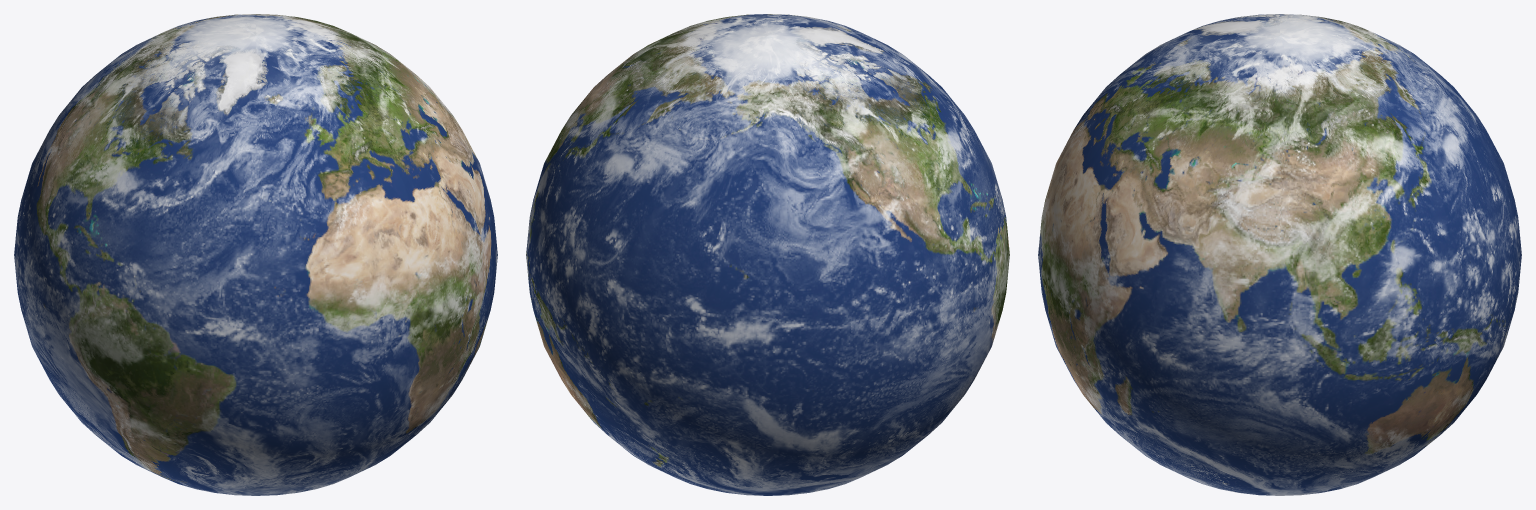
The model's file is earth.fbx.
The picture shows the model from 3 angles, left to right: view 1: azimuth 30°, elevation 25°; view 2: azimuth 150°, elevation 25°; view 3: azimuth 270°, elevation 25°; orthographic projection.
Parts seen in each view (by area): view 1: Grid; view 2: Grid; view 3: Grid.
Boxes of the visible parts, bbox=[...] form: Grid: bbox=[14, 14, 497, 495]; Grid: bbox=[526, 14, 1009, 495]; Grid: bbox=[1038, 14, 1521, 495].
Size of the model in its own units: 6740 by 6740 by 6740.
